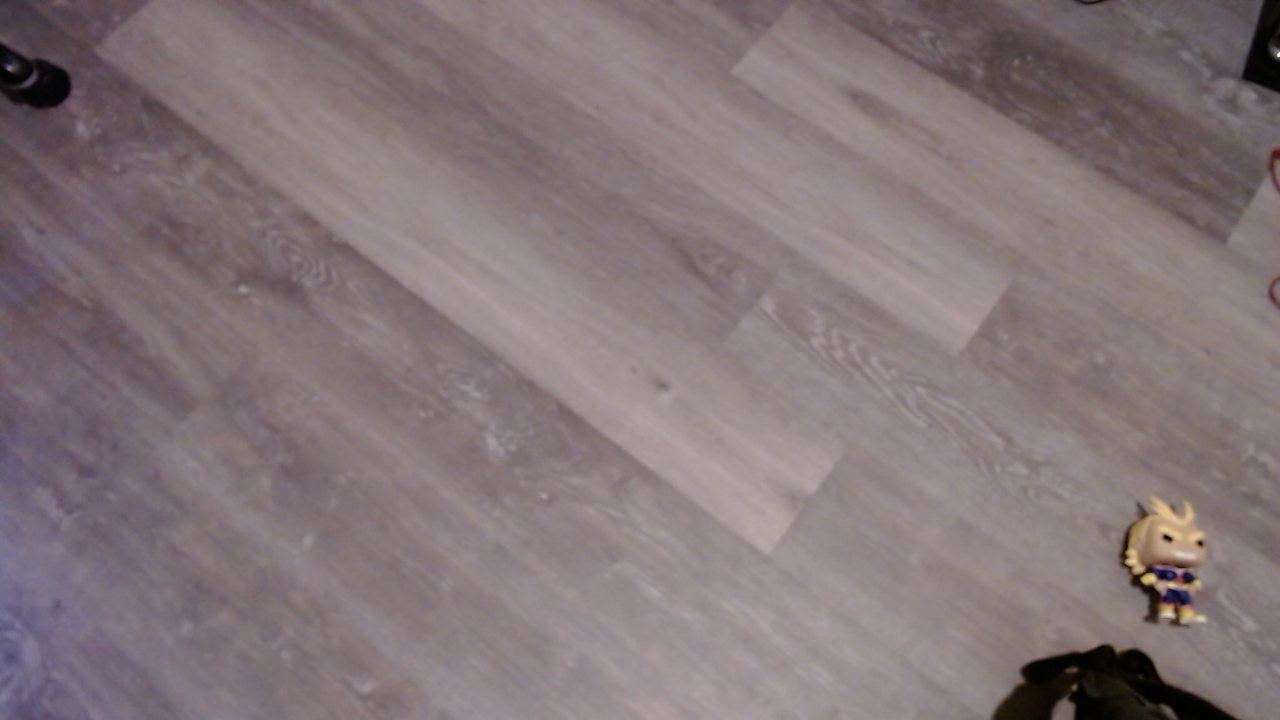all_might: (1115, 501, 1229, 641)
